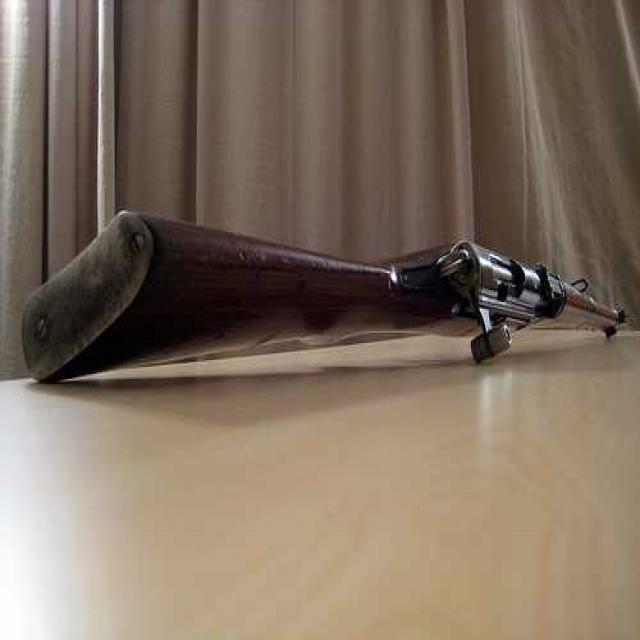heavy-weapon: (15, 174, 632, 418)
